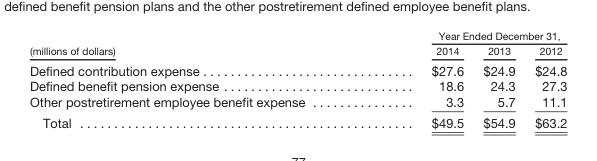table: (28, 28, 566, 129)
table column: (28, 28, 367, 129), (367, 28, 472, 129), (472, 28, 524, 129), (524, 28, 566, 129)
table column header: (28, 28, 566, 59)
table row: (28, 59, 566, 78), (28, 93, 566, 111), (28, 111, 566, 129), (28, 42, 566, 59), (28, 78, 566, 93), (28, 28, 566, 42)
table spanning cell: (28, 28, 367, 59), (367, 28, 566, 42)
